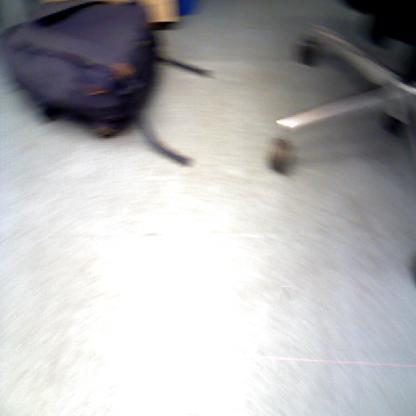mark: (281, 287, 294, 301)
